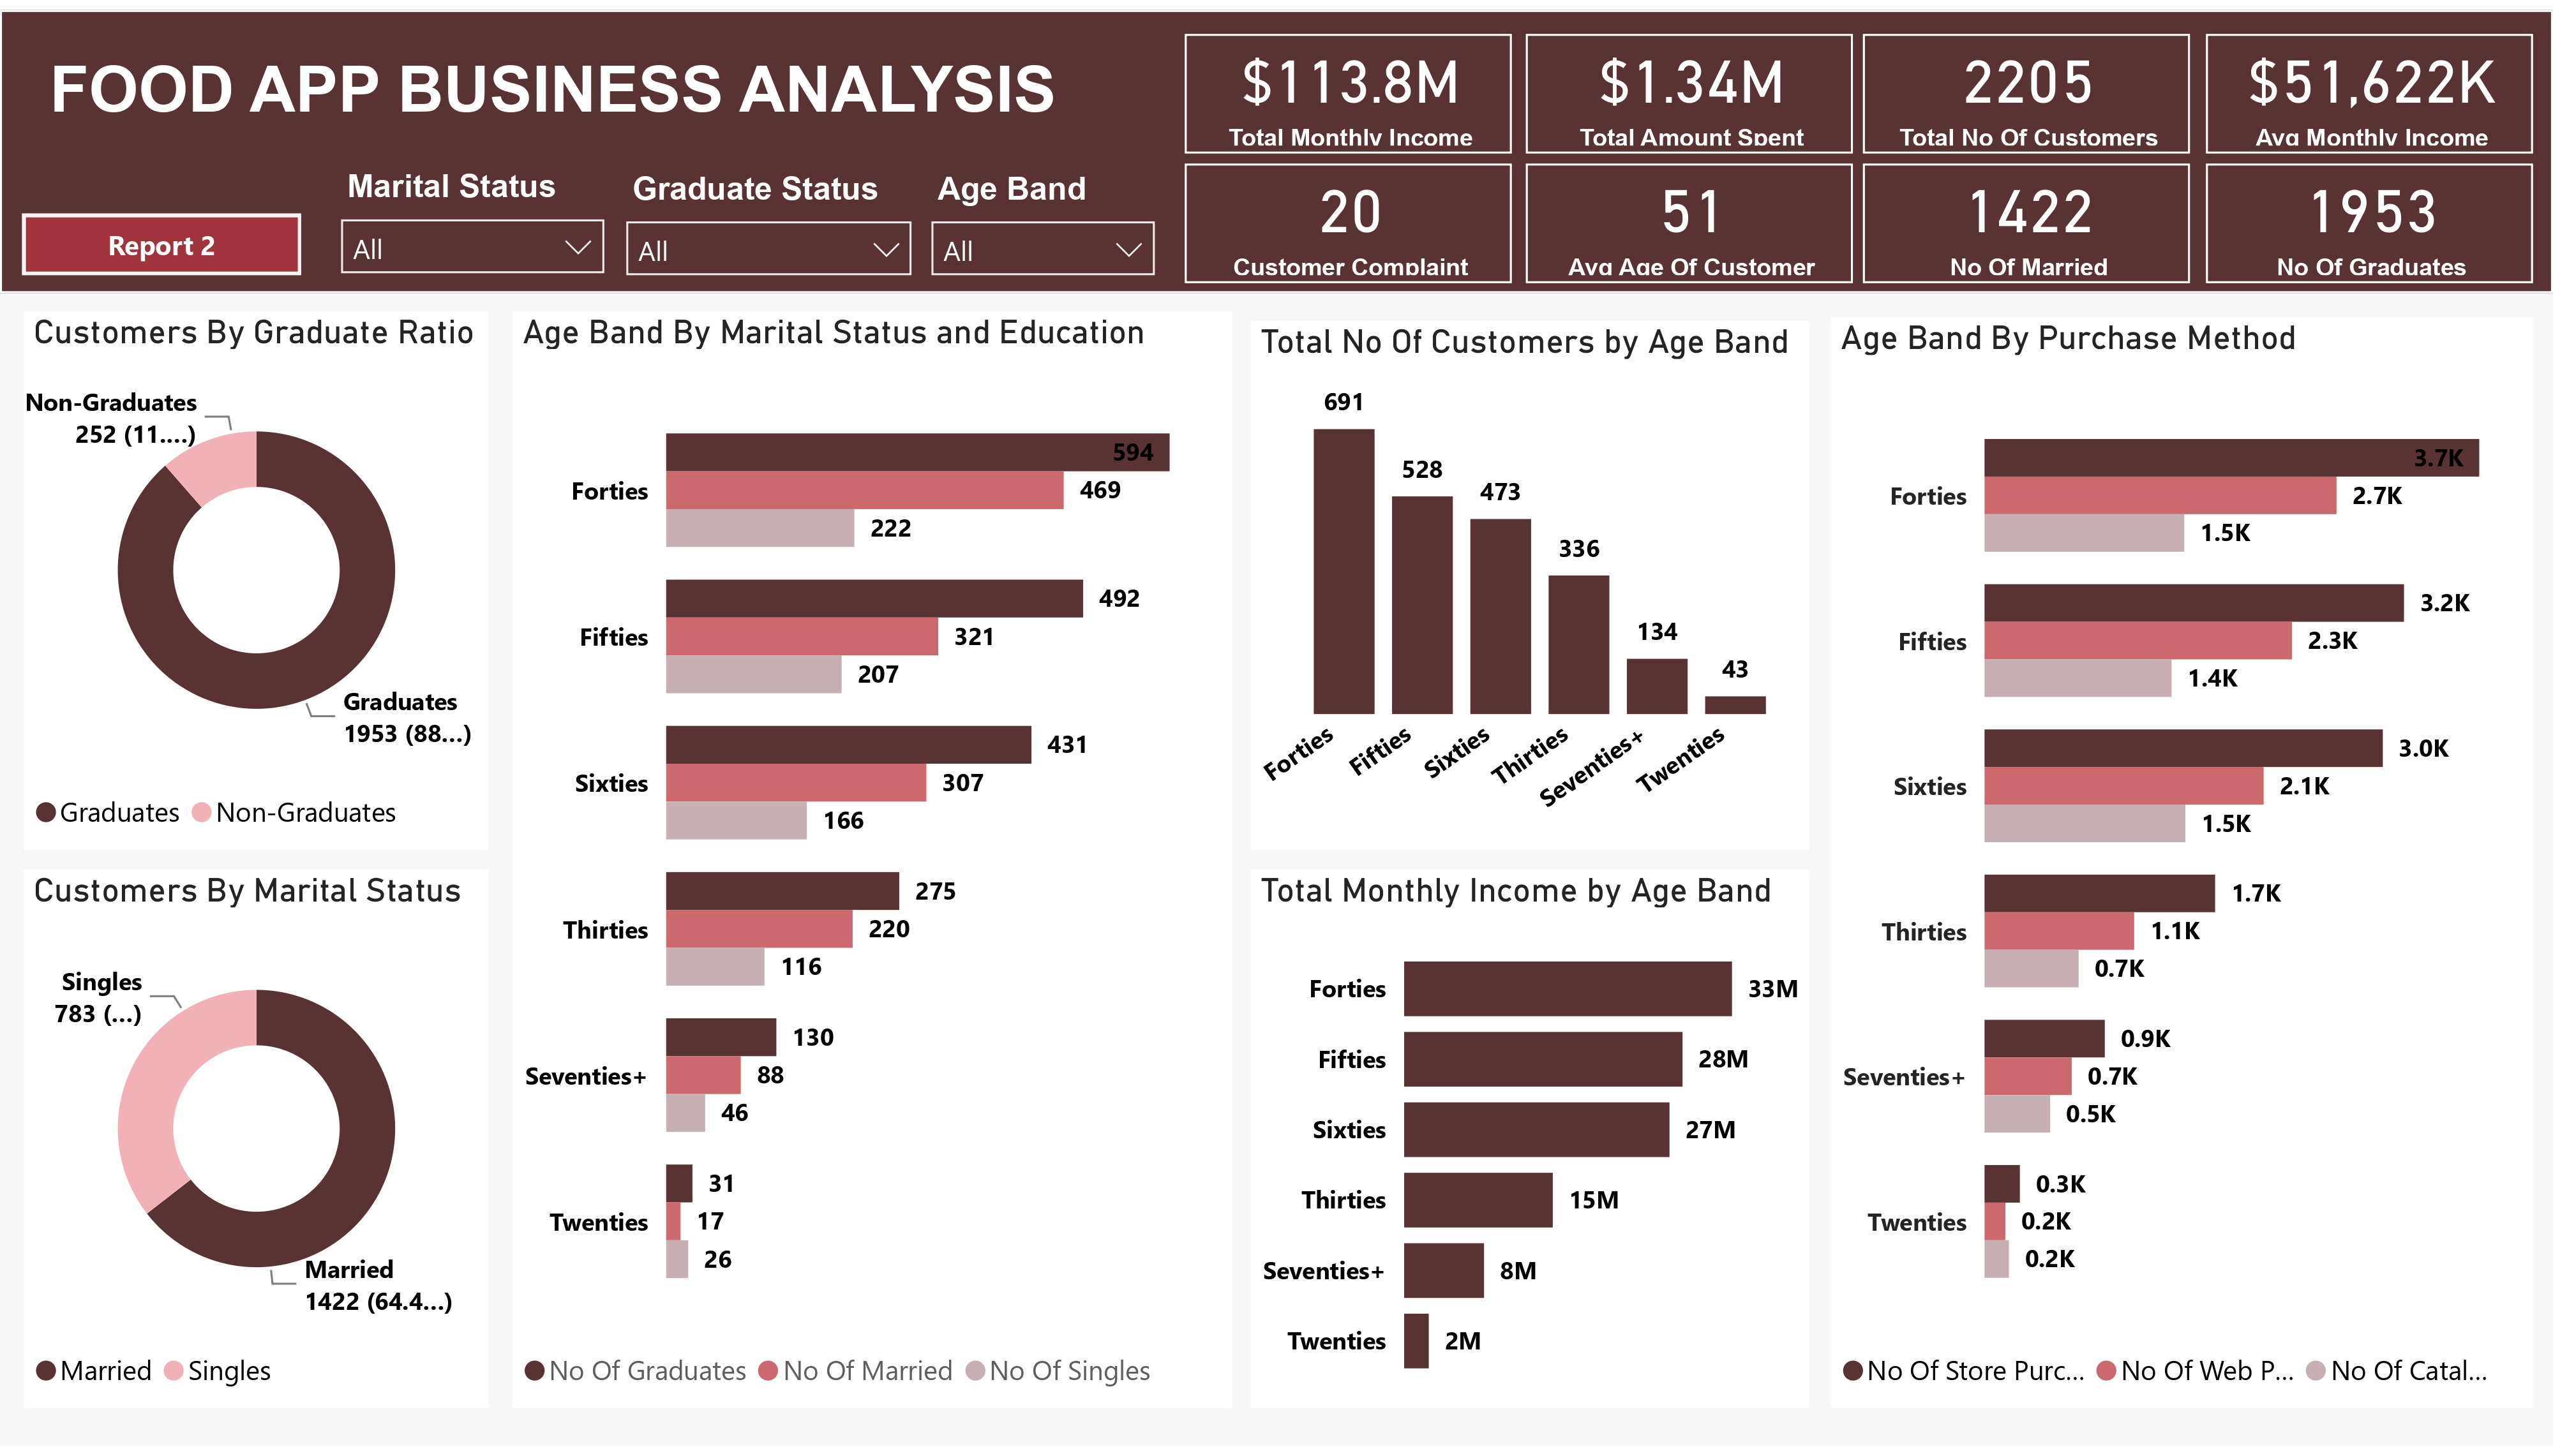

Layout of this report page (visuals, bound fields, positions):
{"tool":"powerbi","page":{"name":"REPORT 1","canvas":[1280,720],"ordinal":0},"visuals":[{"type":"shape","box":[0,0,1280,142],"z":0},{"type":"textbox","box":[20.1,16.8,528.4,53.7],"z":1000},{"type":"card","fields":{"Values":["DAX.Formatted Total Amount"]},"box":[765,11.7,164.4,60.4],"z":2000},{"type":"card","fields":{"Values":["DAX.Formated Avg Monthly Income"]},"box":[1105.5,11.7,164.4,60.4],"z":3000},{"type":"card","fields":{"Values":["DAX.No Of Graduates"]},"box":[1105.5,77.2,164.4,60.4],"z":4000},{"type":"card","fields":{"Values":["DAX.No Of Customer Complaint"]},"box":[593.9,77.2,164.4,60.4],"z":5000},{"type":"card","fields":{"Values":["DAX.Total No Of Customers"]},"box":[934.4,11.7,164.4,60.4],"z":6000},{"type":"card","fields":{"Values":["DAX.No Of Married"]},"box":[934.4,77.2,164.4,60.4],"z":7000},{"type":"card","fields":{"Values":["DAX.Formatted Total Amonthly Income"]},"box":[593.9,11.7,164.4,60.4],"z":8000},{"type":"card","fields":{"Values":["DAX.Avg Customer Age"]},"box":[765,77.2,164.4,60.4],"z":9000},{"type":"clusteredBarChart","title":"Age Band By Purchase Method","fields":{"Category":["FoodAppBusiness.AgeBand"],"Y":["Sum(FoodAppBusiness.NoOfStorePurchase)","Sum(FoodAppBusiness.NoOfWebPurchase)","Sum(FoodAppBusiness.NoOfCatalogPurchase)"]},"box":[917.6,154.3,352.3,546.9],"z":10000},{"type":"clusteredColumnChart","fields":{"Y":["DAX.Total No Of Customers"],"Category":["FoodAppBusiness.AgeBand"]},"box":[627.4,156,280,265.1],"z":11000},{"type":"barChart","fields":{"Category":["FoodAppBusiness.AgeBand"],"Y":["DAX.Total Monthly Income"]},"box":[627.4,431.1,280.2,270.1],"z":12000},{"type":"donutChart","title":"Customers By Marital Status","fields":{"Y":["DAX.No Of Married","DAX.No Of Singles"]},"box":[11.7,431.1,233.2,270.1],"z":13000},{"type":"donutChart","title":"Customers By Graduate Ratio","fields":{"Y":["DAX.No Of Graduates","DAX.No Of Non-Graduates"]},"box":[11.7,151,233.2,270.1],"z":14000},{"type":"slicer","fields":{"Values":["FoodAppBusiness.AgeBand"]},"box":[457.8,76.5,131.8,59.5],"z":15000,"group":"g1"},{"type":"slicer","fields":{"Values":["FoodAppBusiness.Graduate_Status"]},"box":[304.7,76.5,163,59.5],"z":16000,"group":"g1"},{"type":"slicer","fields":{"Values":["FoodAppBusiness.Marital_Status"]},"box":[161.5,75.1,151.7,58.1],"z":17000,"group":"g1"},{"type":"clusteredBarChart","title":"Age Band By Marital Status and Education","fields":{"Category":["FoodAppBusiness.AgeBand"],"Y":["DAX.No Of Graduates","DAX.No Of Married","DAX.No Of Singles"]},"box":[256.7,151,360.7,550.2],"z":18000},{"type":"actionButton","box":[11.3,102,140.3,31.2],"z":19000,"group":"g1"},{"type":"group","id":"g1","title":"Group 1","box":[11.3,75.1,578.3,60.9],"z":19001}]}

Visuals, with their boxes in screenshot pixels (x1, y1, x2, y2), scaled from the page's 1280x720 canvas onto the 2553x1456 screenshot:
shape: (left=0, top=0, right=2552, bottom=287)
textbox: (left=40, top=34, right=1094, bottom=142)
card - DAX.Formatted Total Amount: (left=1526, top=24, right=1853, bottom=146)
card - DAX.Formated Avg Monthly Income: (left=2205, top=24, right=2533, bottom=146)
card - DAX.No Of Graduates: (left=2205, top=156, right=2533, bottom=278)
card - DAX.No Of Customer Complaint: (left=1185, top=156, right=1513, bottom=278)
card - DAX.Total No Of Customers: (left=1864, top=24, right=2192, bottom=146)
card - DAX.No Of Married: (left=1864, top=156, right=2192, bottom=278)
card - DAX.Formatted Total Amonthly Income: (left=1185, top=24, right=1513, bottom=146)
card - DAX.Avg Customer Age: (left=1526, top=156, right=1853, bottom=278)
"Age Band By Purchase Method" clusteredBarChart: (left=1831, top=312, right=2533, bottom=1418)
clusteredColumnChart - DAX.Total No Of Customers x FoodAppBusiness.AgeBand: (left=1252, top=315, right=1810, bottom=852)
barChart - FoodAppBusiness.AgeBand x DAX.Total Monthly Income: (left=1252, top=872, right=1810, bottom=1418)
"Customers By Marital Status" donutChart: (left=24, top=872, right=488, bottom=1418)
"Customers By Graduate Ratio" donutChart: (left=24, top=306, right=488, bottom=852)
slicer - FoodAppBusiness.AgeBand: (left=913, top=154, right=1176, bottom=275)
slicer - FoodAppBusiness.Graduate_Status: (left=608, top=154, right=933, bottom=275)
slicer - FoodAppBusiness.Marital_Status: (left=322, top=152, right=625, bottom=269)
"Age Band By Marital Status and Education" clusteredBarChart: (left=512, top=306, right=1231, bottom=1418)
actionButton: (left=22, top=206, right=303, bottom=269)
"Group 1" group: (left=22, top=152, right=1176, bottom=275)
